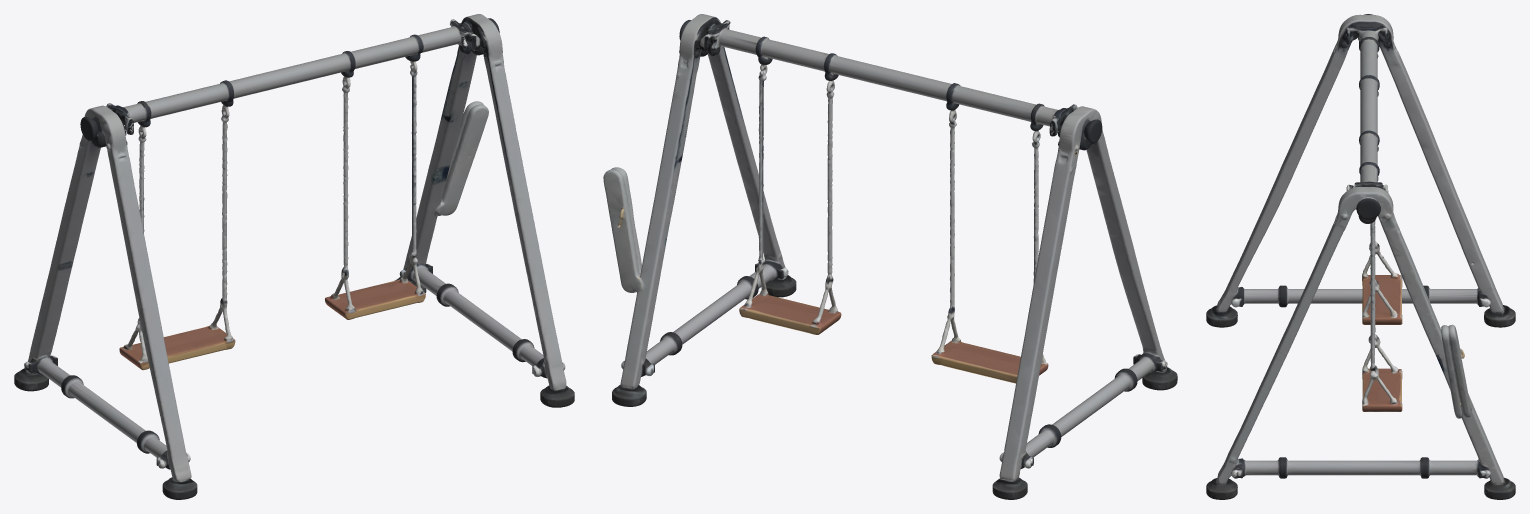
File: plaza-playground-swing.glb
3 views of the same model, side by side, from view 1: azimuth 30°, elevation 25°; view 2: azimuth 150°, elevation 25°; view 3: azimuth 270°, elevation 25° (orthographic). The views are drawn at different scales.
Parts seen in each view (by area): view 1: tripo_node_25c7e639-dc11-4061-b6bb-f045fe7ae5eb; view 2: tripo_node_25c7e639-dc11-4061-b6bb-f045fe7ae5eb; view 3: tripo_node_25c7e639-dc11-4061-b6bb-f045fe7ae5eb.
Part boxes in pixels (x1=…): tripo_node_25c7e639-dc11-4061-b6bb-f045fe7ae5eb: x1=14, y1=14, x2=574, y2=499; tripo_node_25c7e639-dc11-4061-b6bb-f045fe7ae5eb: x1=603, y1=14, x2=1177, y2=499; tripo_node_25c7e639-dc11-4061-b6bb-f045fe7ae5eb: x1=1206, y1=14, x2=1515, y2=499.
Size of the model in its own units: 3.55 by 2.5 by 2.3.
Materials: 1 (1 with a texture image).
